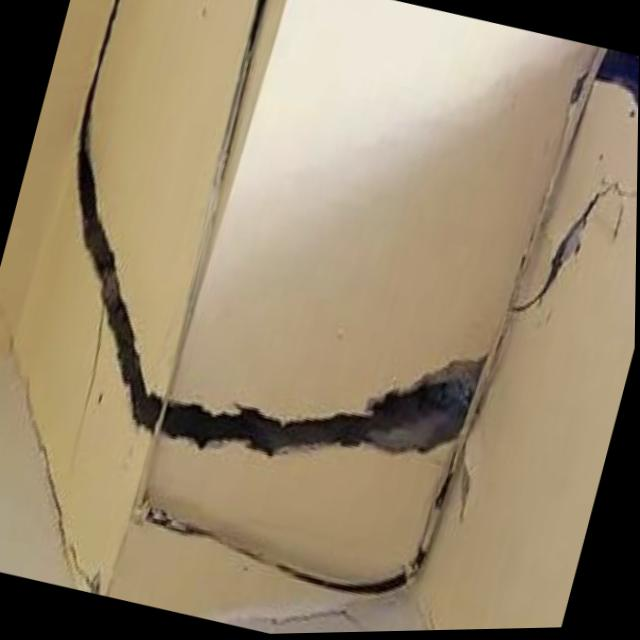Crack: (230, 183, 555, 636), (49, 192, 326, 583), (10, 0, 198, 307)
